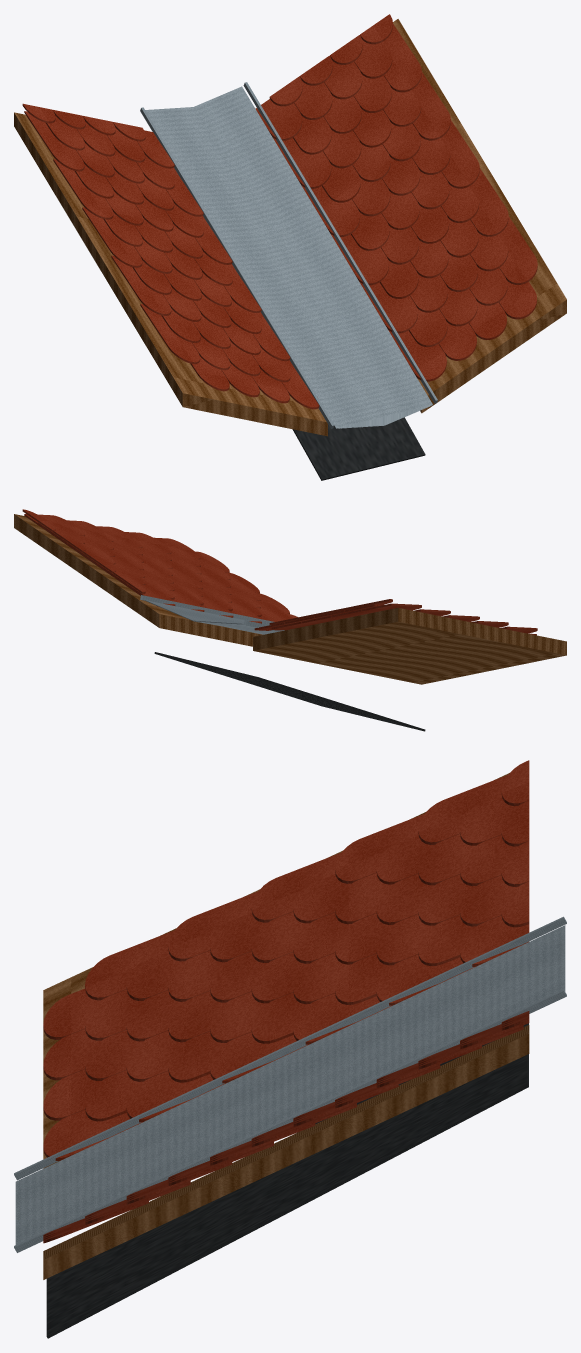
File: modell.glb
The picture shows the model from 3 angles, top to bottom: view 1: azimuth 30°, elevation 25°; view 2: azimuth 150°, elevation 25°; view 3: azimuth 270°, elevation 25°; orthographic projection. The views are drawn at different scales.
Visible parts, largest first — view 1: s06-ziegel_deckung, s06-kehlblech_zusatzebene, s06-unterlage_tragwerk, s06-zusatzebene_zusatzebene, s06-kehlblech_deckung; view 2: s06-unterlage_tragwerk, s06-ziegel_deckung, s06-zusatzebene_zusatzebene, s06-kehlblech_zusatzebene, s06-kehlblech_deckung; view 3: s06-ziegel_deckung, s06-kehlblech_zusatzebene, s06-zusatzebene_zusatzebene, s06-unterlage_tragwerk, s06-kehlblech_deckung.
Boxes of the visible parts, x1,y1,x2,y2 form: s06-ziegel_deckung: (22,14,537,409); s06-kehlblech_zusatzebene: (145,86,432,428); s06-unterlage_tragwerk: (14,19,566,436); s06-zusatzebene_zusatzebene: (292,417,425,480); s06-kehlblech_deckung: (140,82,437,428); s06-unterlage_tragwerk: (14,514,566,684); s06-ziegel_deckung: (22,509,537,635); s06-zusatzebene_zusatzebene: (154,652,425,731); s06-kehlblech_zusatzebene: (145,600,276,634); s06-kehlblech_deckung: (140,595,284,631); s06-ziegel_deckung: (43,760,529,1243); s06-kehlblech_zusatzebene: (15,925,565,1244); s06-zusatzebene_zusatzebene: (46,1023,528,1338); s06-unterlage_tragwerk: (43,773,529,1279); s06-kehlblech_deckung: (14,916,566,1252).
Size of the model in its own units: 2.3 by 1.64 by 1.99.
Materials: 4 (4 with a texture image).
